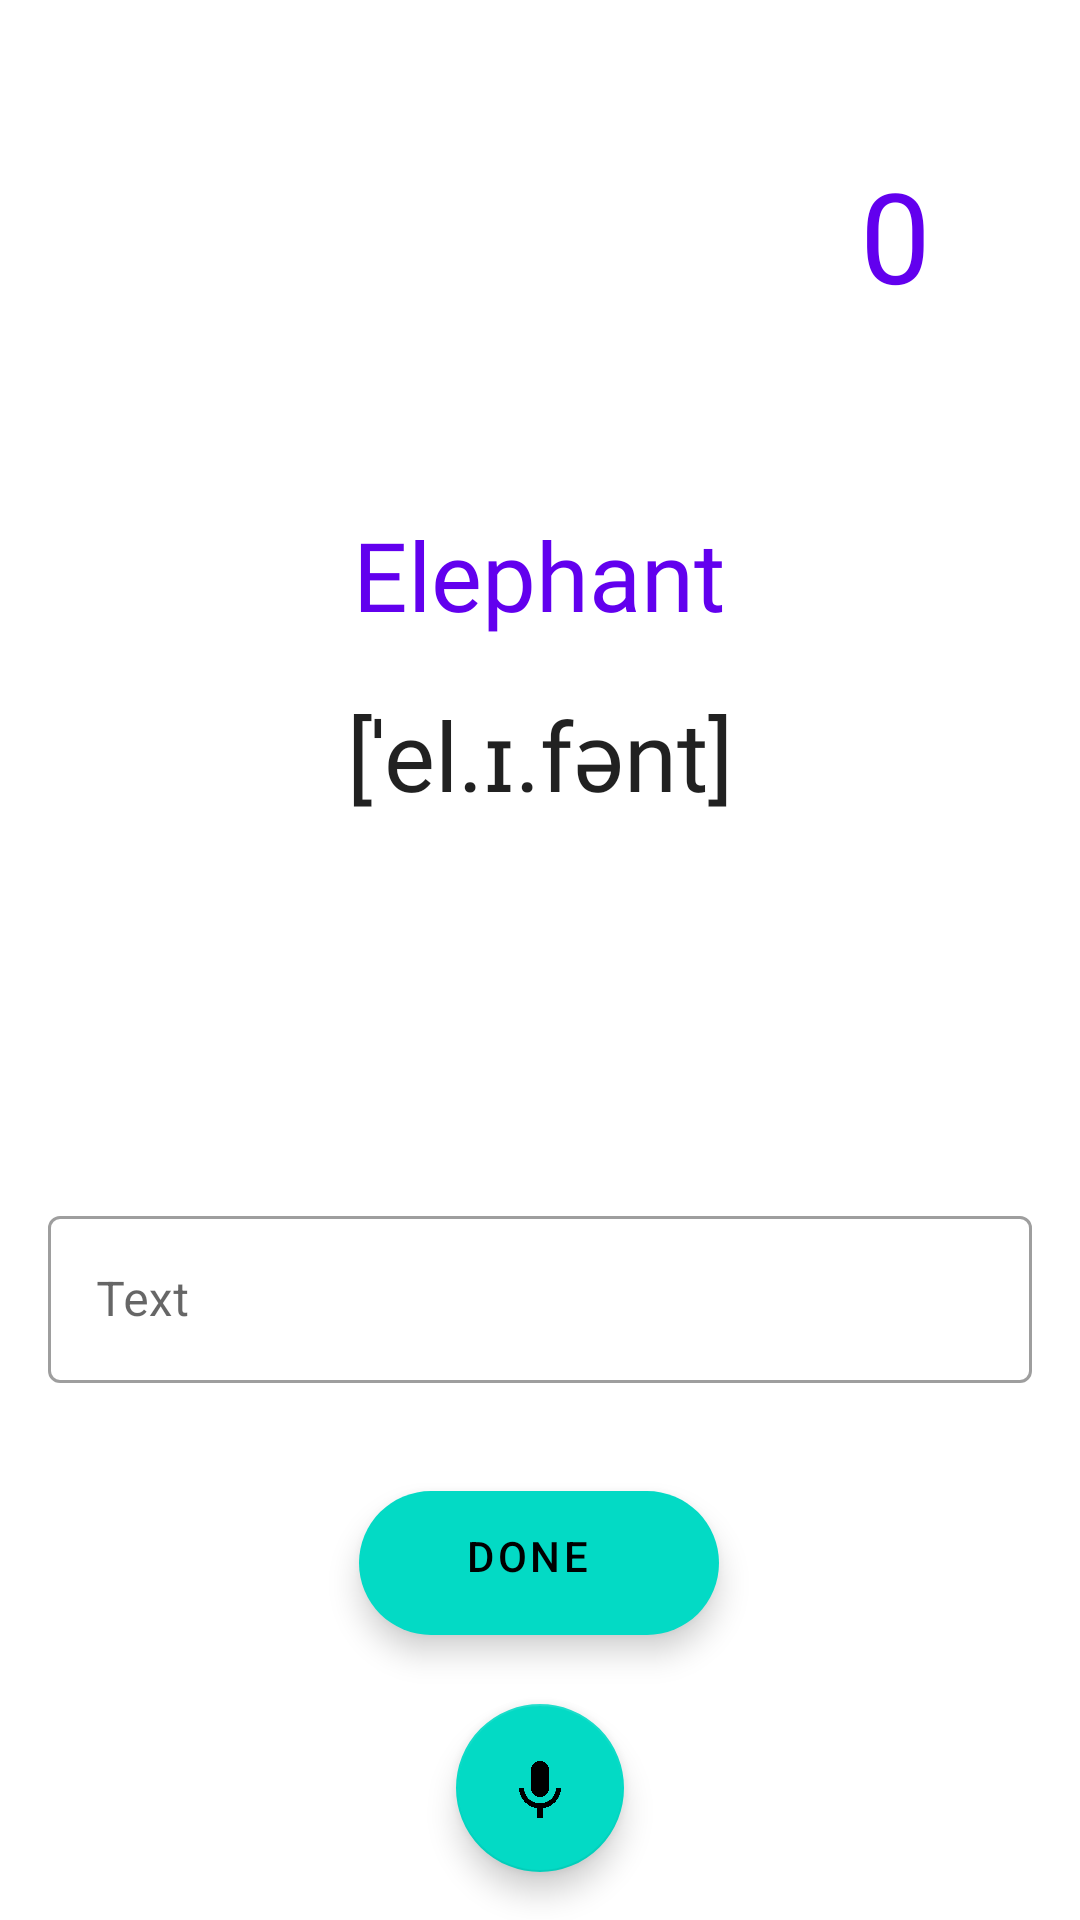

Icons on this 1080 x 1920 Android screen, each with the point to tap as point (x, y):
keyboard voice: point (540, 1788)
